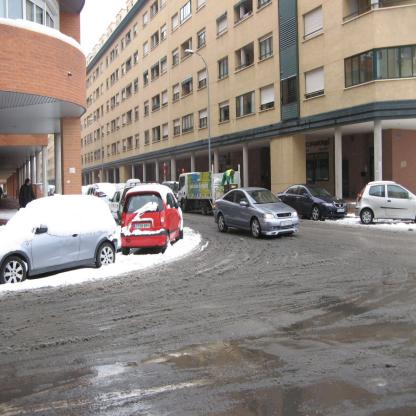Car: (1, 196, 120, 284), (120, 184, 184, 257), (214, 189, 301, 240), (354, 182, 416, 226), (277, 186, 349, 223)
